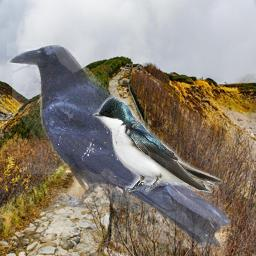Crow: (7, 42, 231, 253)
Swallow: (92, 95, 223, 195)
